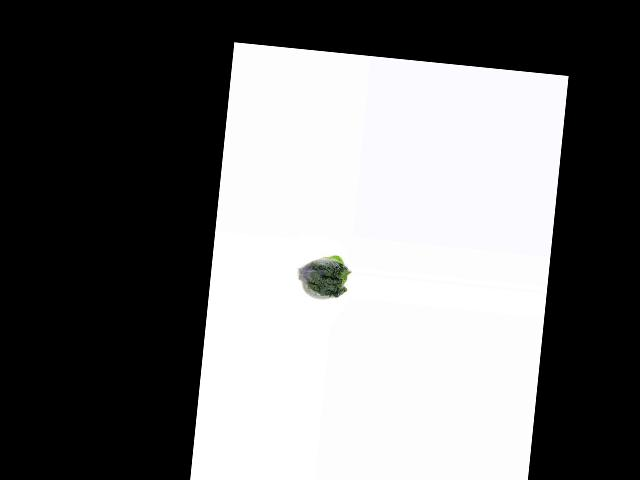lettuce: (295, 249, 351, 303)
